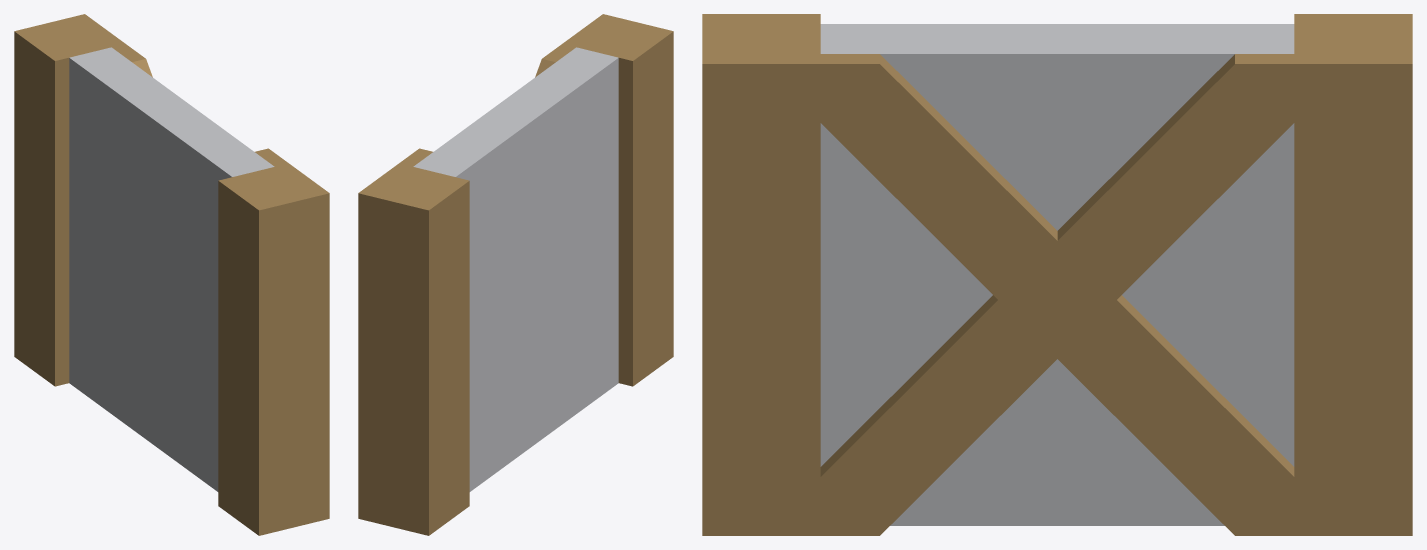
File: Wood_Wall_Double_Cross_Inside_01.obj
The picture shows the model from 3 angles, left to right: view 1: azimuth 30°, elevation 25°; view 2: azimuth 150°, elevation 25°; view 3: azimuth 270°, elevation 25°; orthographic projection. The views are drawn at different scales.
Parts seen in each view (by area): view 1: Mesh1_Wood_Wall_Double_Cross_Model; view 2: Mesh1_Wood_Wall_Double_Cross_Model; view 3: Mesh1_Wood_Wall_Double_Cross_Model.
Boxes of the visible parts, x1,y1,x2,y2 form: Mesh1_Wood_Wall_Double_Cross_Model: (14, 14, 329, 535); Mesh1_Wood_Wall_Double_Cross_Model: (358, 14, 673, 535); Mesh1_Wood_Wall_Double_Cross_Model: (702, 14, 1412, 535).
Size of the model in its own units: 0.5 by 2.2 by 3.
